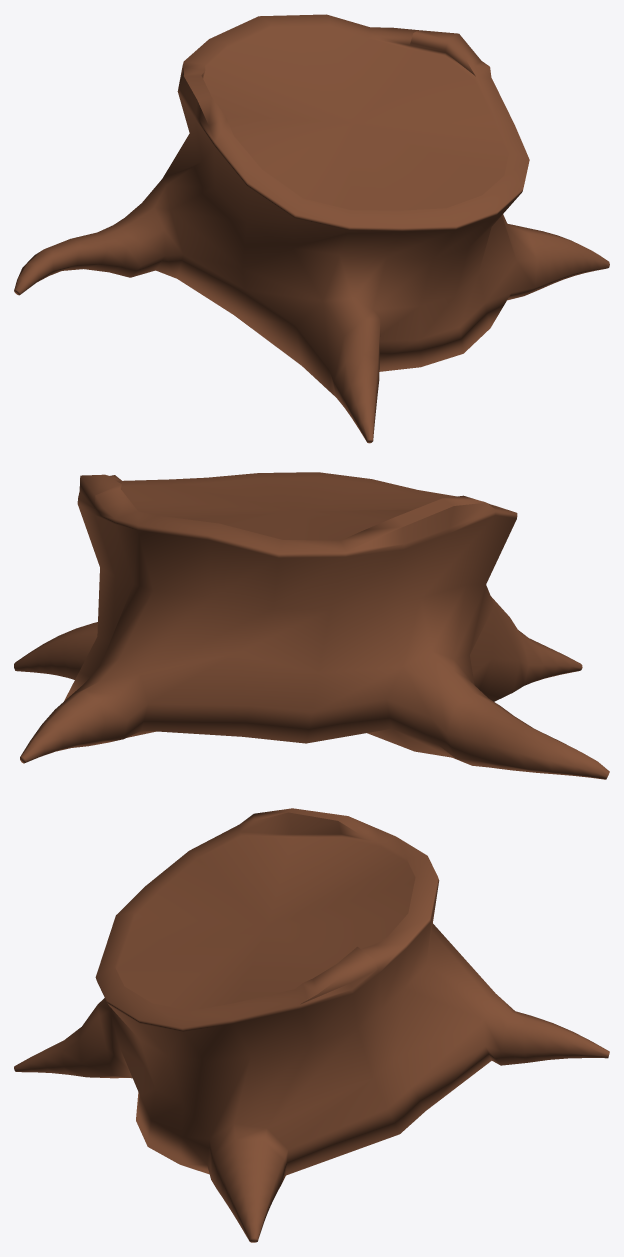
File: boomstronkie.fbx
3 renders of one model, top to bottom at view 1: azimuth 30°, elevation 25°; view 2: azimuth 150°, elevation 25°; view 3: azimuth 270°, elevation 25°, orthographic. The views are drawn at different scales.
Parts seen in each view (by area): view 1: pasted__boomstronk2; view 2: pasted__boomstronk2; view 3: pasted__boomstronk2.
Boxes of the visible parts, x1,y1,x2,y2 form: pasted__boomstronk2: (14,14,609,443); pasted__boomstronk2: (14,472,609,779); pasted__boomstronk2: (14,808,609,1242).
Size of the model in its own units: 5.03 by 2.2 by 4.77.
